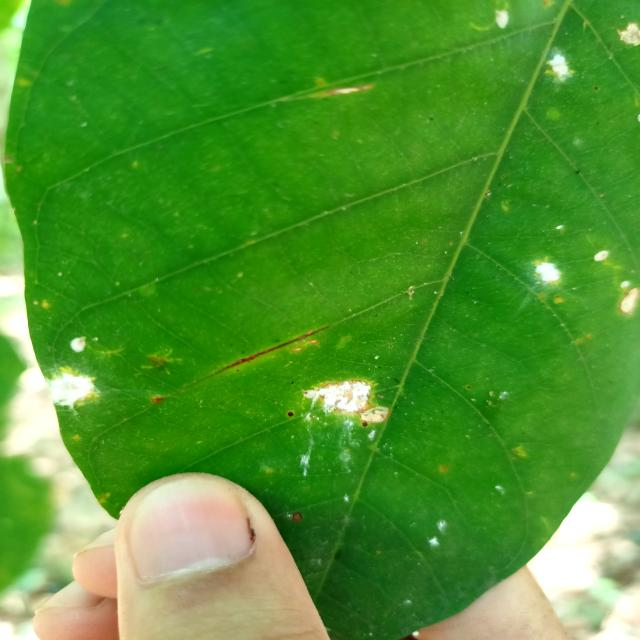Colletotrichum: (287, 411, 294, 417), (362, 422, 368, 427)
Corynespora: (210, 324, 329, 376)
